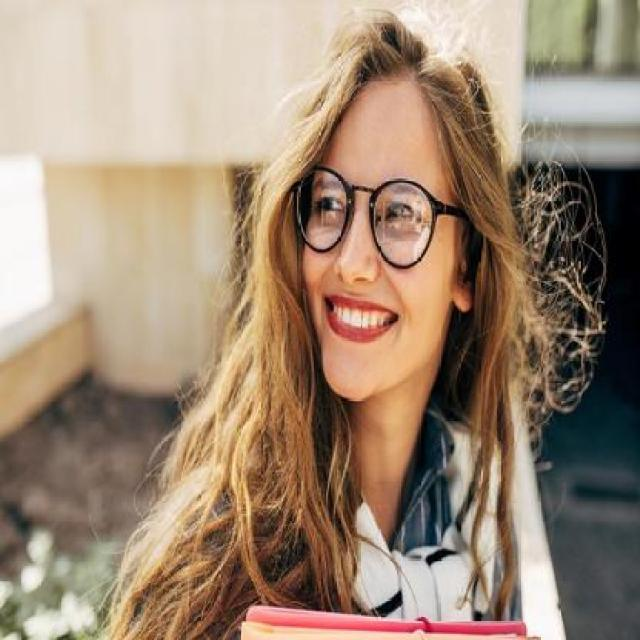glasses: (278, 159, 486, 272)
